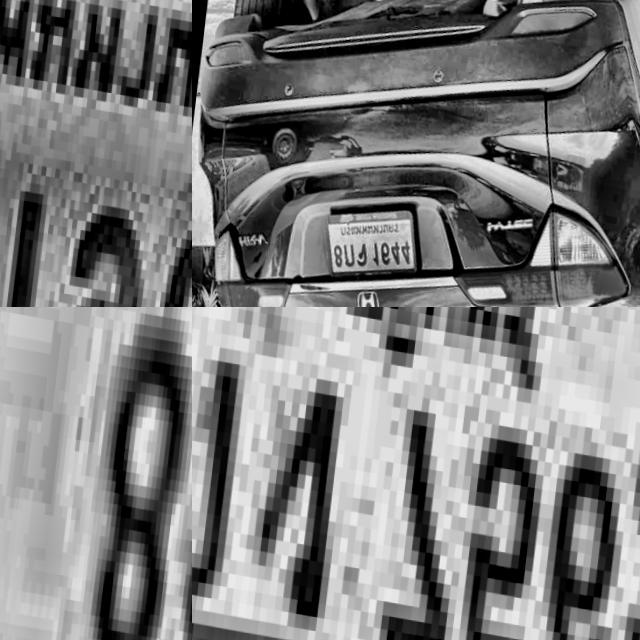license-plate: (192, 307, 640, 640), (0, 307, 192, 640), (0, 0, 192, 307), (317, 181, 431, 293)
